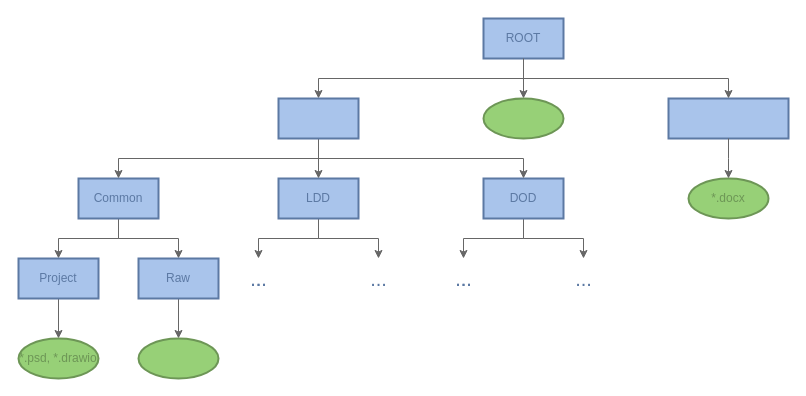
This 806x396 diagram has some shape labels left out. The box of each missing label's shape, as (x1, y1, x2, y2) in pixels:
*.jpeg, *.png: (137, 337, 219, 379)
*.pdf: (482, 97, 564, 139)
Images: (277, 97, 359, 139)
WordDocuments: (667, 97, 789, 139)
